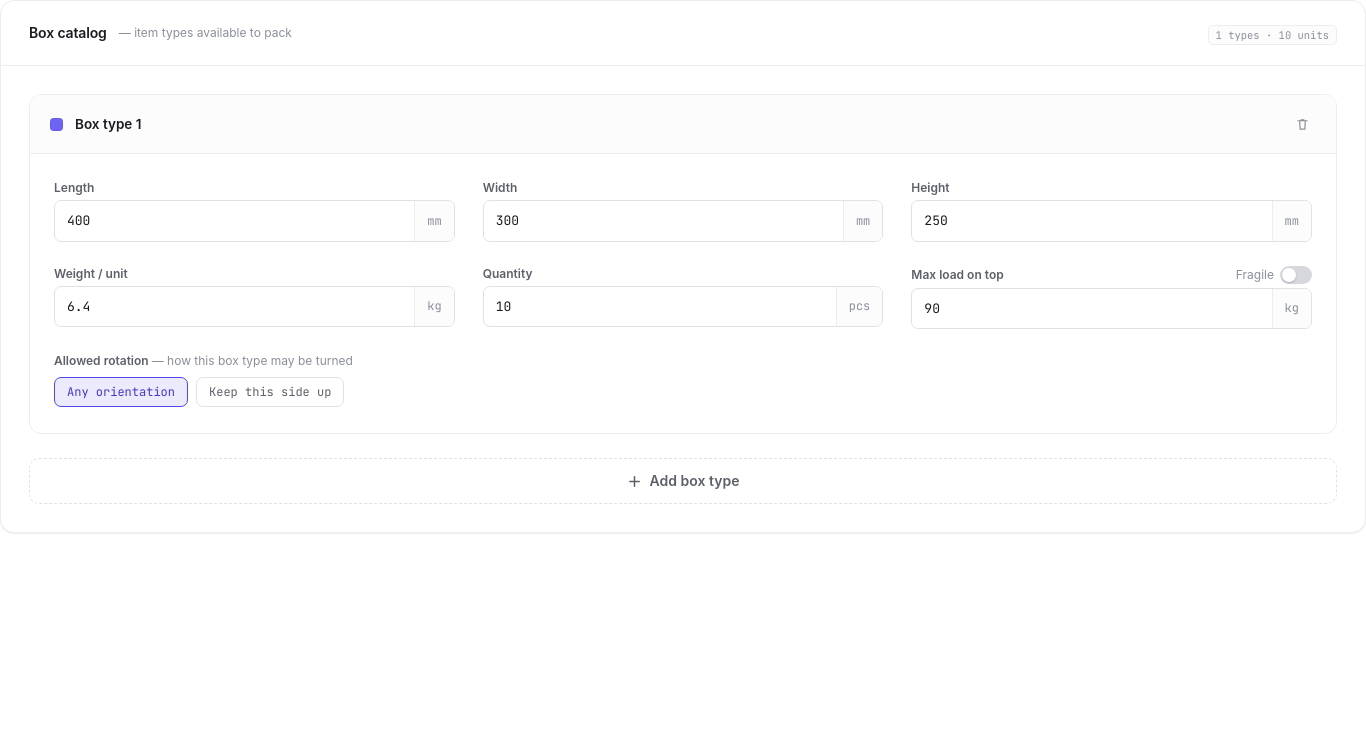
Test case: BoxCatalogCard — live badge (BOX-05) › badge reflects the live type/unit counts and updates on add
Check: the text "1 types · 10 units" is shown, box [1208,25,1337,45]
Click the button "Add box type".
click(683, 481)  # box [29,458,1337,504]
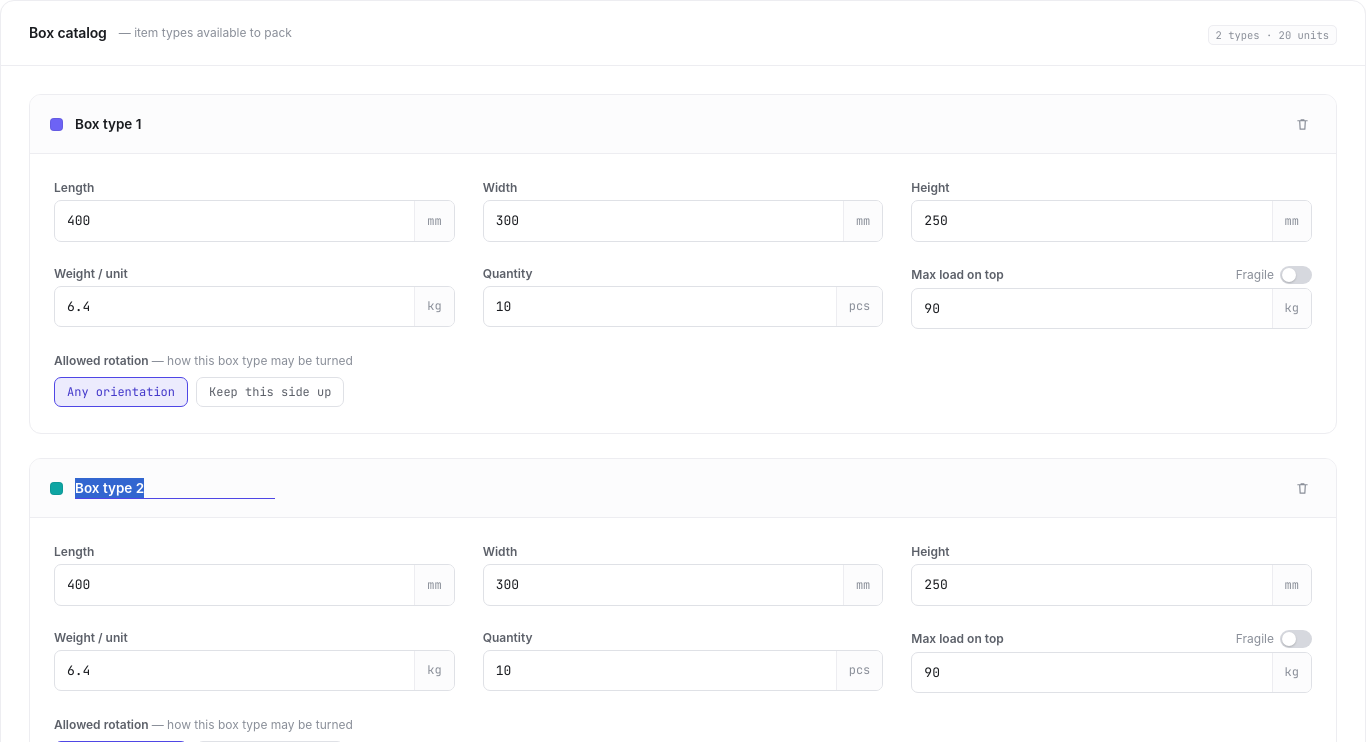
Check: the text "2 types · 20 units" is shown, box [1208,25,1337,45]
